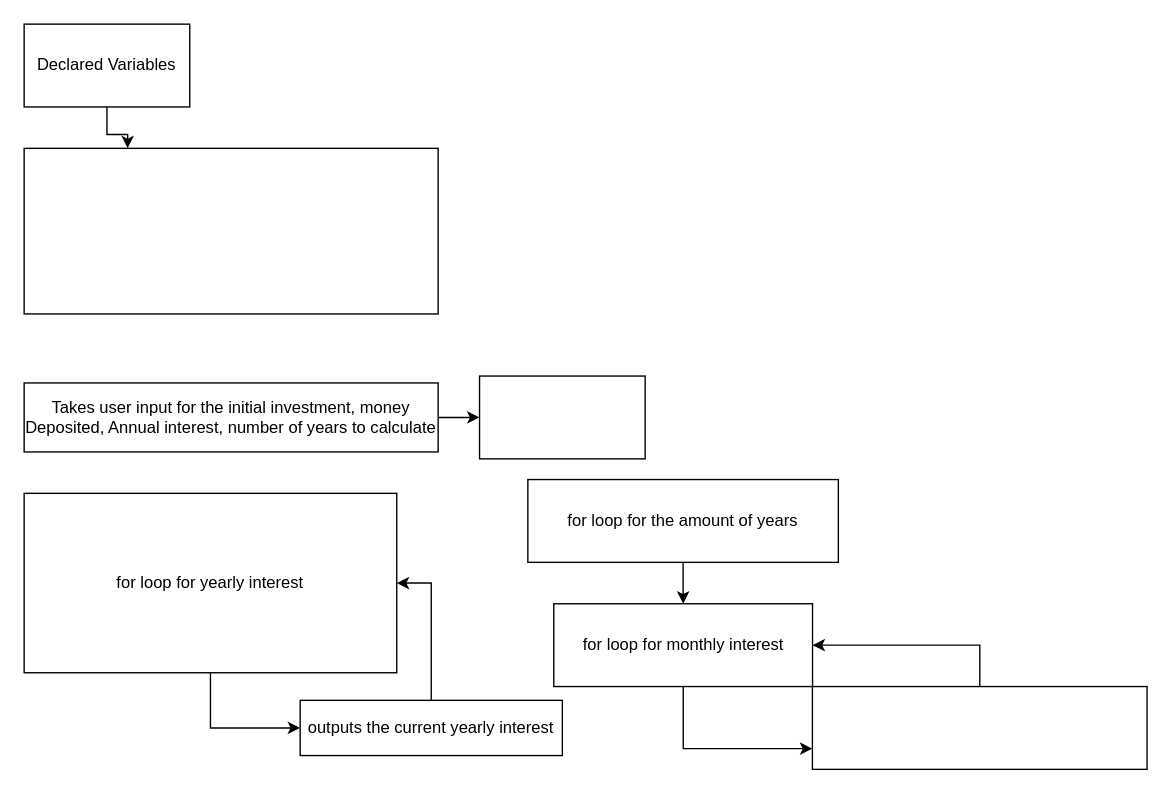
Some shapes in this 1172 by 794 pixel diagram are drawn without their labels. Here are the shapes that lost their labels. From the top down, the box of each, then its label:
(23, 147, 438, 314): float intInv, monDep, anuInt, totalAm, intAm, yeartoInt int month, year
(478, 375, 645, 459): Stores the values to be able to use later
(811, 685, 1147, 769): Outputs the monthly interest
